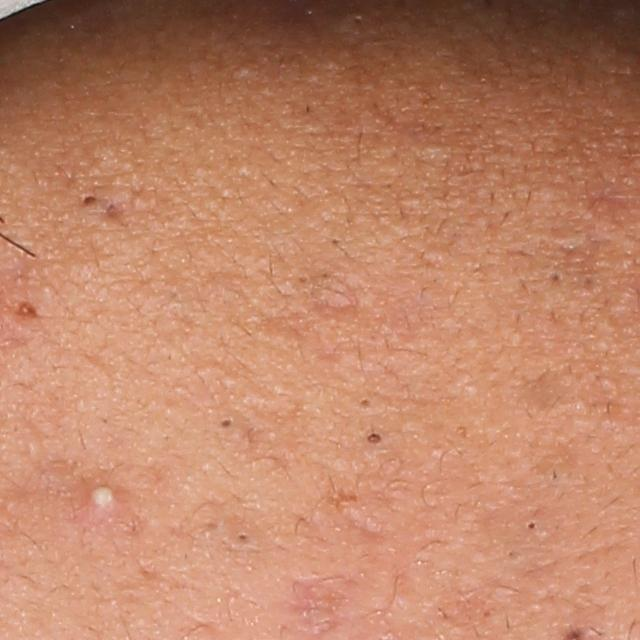comedo: (517, 516, 545, 536), (363, 428, 387, 448), (230, 529, 253, 546), (547, 266, 564, 285), (295, 272, 313, 285), (328, 234, 343, 247)
nevus: (10, 302, 42, 319)
pustule: (85, 477, 122, 511)
